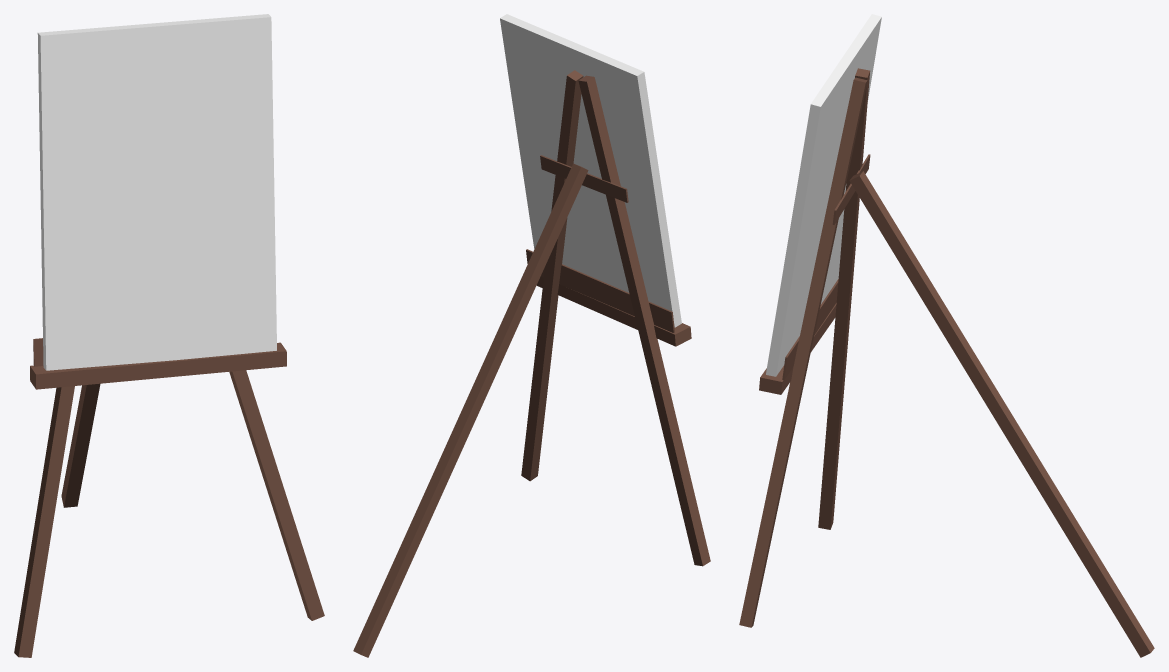
Rendered from easel-transformed.glb.
3 renders of one model, left to right at view 1: azimuth 30°, elevation 25°; view 2: azimuth 150°, elevation 25°; view 3: azimuth 270°, elevation 25°, orthographic. The views are drawn at different scales.
Visible parts, largest first — view 1: group1441049998, group1958263894; view 2: group1958263894, group1441049998; view 3: group1958263894, group1441049998.
Part boxes in pixels (left/top/right/bottom): group1441049998: left=37, top=14, right=276, bottom=370; group1958263894: left=14, top=338, right=324, bottom=657; group1958263894: left=353, top=70, right=710, bottom=657; group1441049998: left=500, top=14, right=681, bottom=327; group1958263894: left=739, top=68, right=1154, bottom=657; group1441049998: left=766, top=14, right=881, bottom=376.
Size of the model in its own units: 2.82 by 6.4 by 4.29.
